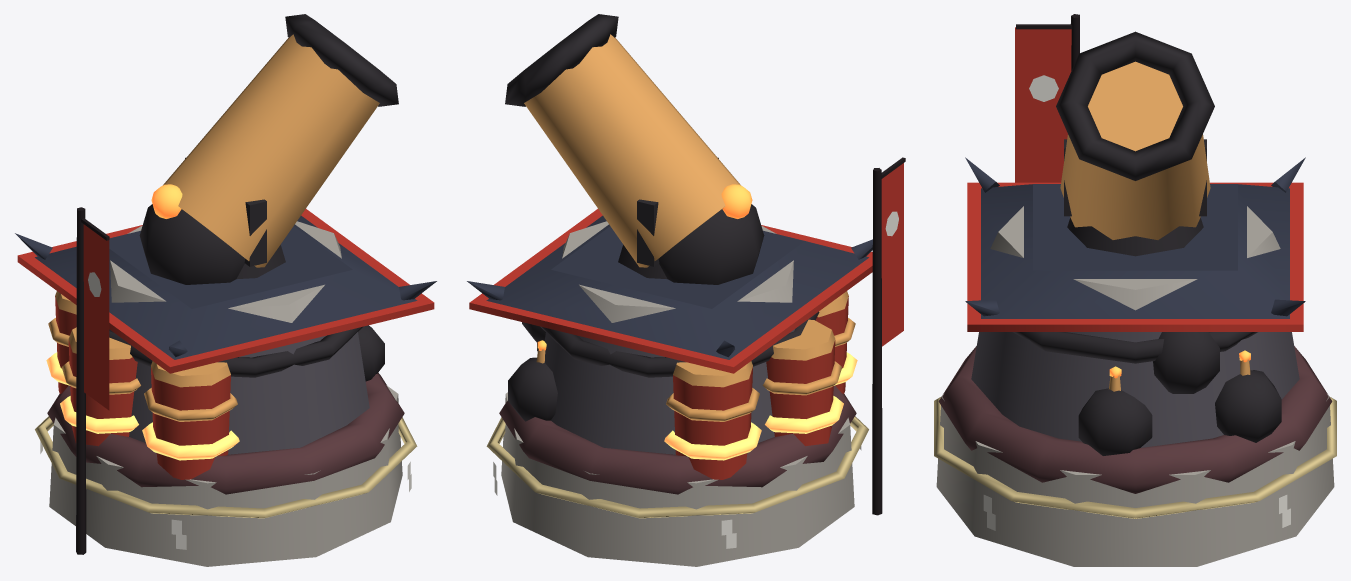
Rendered from tower_mine_demolition.glb.
3 views of the same model, side by side, from view 1: azimuth 30°, elevation 25°; view 2: azimuth 150°, elevation 25°; view 3: azimuth 270°, elevation 25° (orthographic). The views are drawn at different scales.
Parts seen in each view (by area): view 1: mortar_tube, base, deco_eave_0_roof, bunker, earthwall, deco_eave_0_rim, mortar_breech, barrel_0, deco_shimenawa_rope, deco_nobori_cloth, mortar_mouth, bunker_cap (+15 smaller); view 2: mortar_tube, base, deco_eave_0_roof, bunker, earthwall, deco_eave_0_rim, mortar_breech, barrel_1, deco_shimenawa_rope, barrel_2, mortar_mouth, deco_nobori_cloth (+15 smaller); view 3: base, deco_eave_0_roof, bunker, earthwall, mortar_tube, mortar_mouth, deco_eave_0_rim, deco_nobori_cloth, deco_shimenawa_rope, bunker_cap, big_mine_1, big_mine_0 (+5 smaller).
Part boxes in pixels (box(x1,y1,x2,y2)): mortar_tube: box(163, 34, 379, 267); base: box(49, 385, 402, 566); deco_eave_0_roof: box(35, 215, 417, 359); bunker: box(109, 329, 369, 454); earthwall: box(47, 372, 404, 494); deco_eave_0_rim: box(17, 209, 434, 373); mortar_breech: box(139, 204, 245, 284); barrel_0: box(151, 367, 230, 479); deco_shimenawa_rope: box(35, 416, 417, 518); deco_nobori_cloth: box(83, 224, 109, 410); mortar_mouth: box(285, 14, 398, 106); bunker_cap: box(110, 221, 341, 322); mortar_tube: box(524, 34, 740, 267); base: box(501, 392, 854, 566); deco_eave_0_roof: box(486, 215, 868, 359); bunker: box(544, 329, 794, 454); earthwall: box(499, 385, 856, 494); deco_eave_0_rim: box(469, 209, 872, 373); mortar_breech: box(658, 204, 764, 284); barrel_1: box(673, 367, 752, 479); deco_shimenawa_rope: box(486, 416, 868, 518); barrel_2: box(766, 340, 835, 446); mortar_mouth: box(505, 14, 618, 106); deco_nobori_cloth: box(881, 163, 903, 346); base: box(936, 394, 1334, 566); deco_eave_0_roof: box(981, 184, 1289, 318); bunker: box(971, 332, 1299, 447); earthwall: box(938, 346, 1332, 493); mortar_tube: box(1060, 61, 1210, 239); mortar_mouth: box(1056, 31, 1214, 180); deco_eave_0_rim: box(967, 182, 1303, 331); deco_nobori_cloth: box(1015, 27, 1071, 182); deco_shimenawa_rope: box(934, 396, 1336, 518); bunker_cap: box(990, 206, 1280, 310); big_mine_1: box(1078, 388, 1152, 455); big_mine_0: box(1215, 370, 1281, 442).
Bounding box in the file's own units: 0.4387 × 0.5481 × 0.4052.
